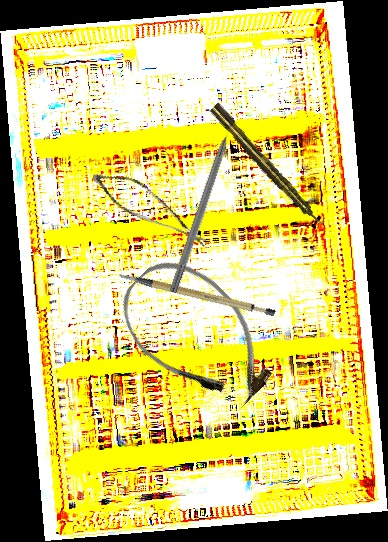Cannula: (104, 242, 291, 429)
Handpiece: (208, 101, 327, 231)
Hook Surgical: (168, 114, 240, 295)
Micro Scissor: (83, 165, 221, 249)
Scalpel Handle: (117, 248, 277, 337)
